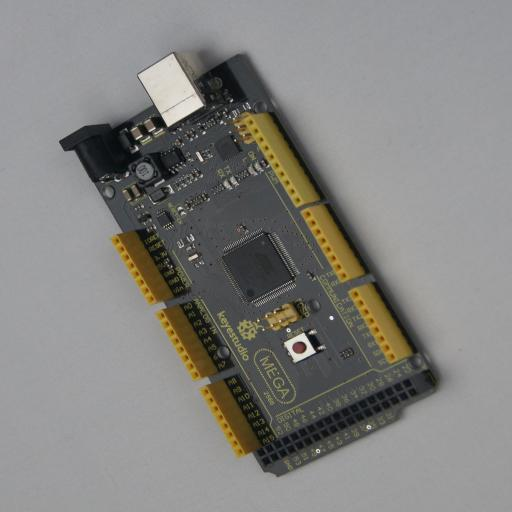Arduino Mega 2560 -Black and Yellow-: (59, 48, 444, 477)
